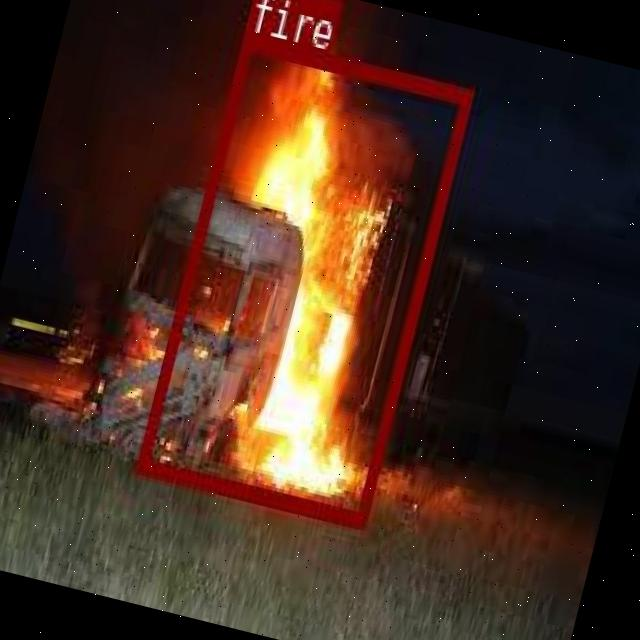fire: (133, 32, 470, 527)
